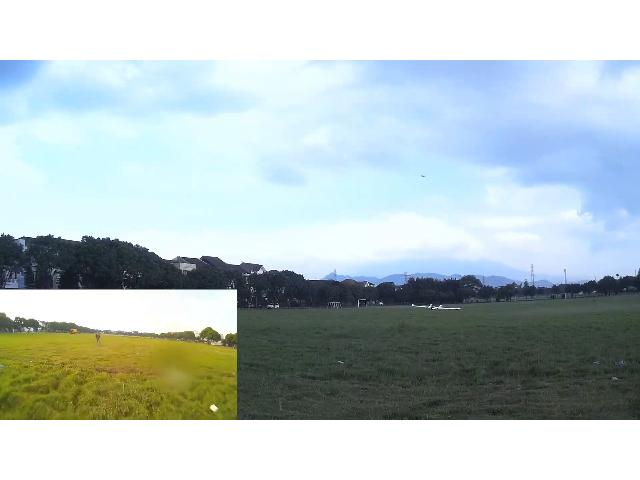Anti-Drone: (404, 289, 466, 316)
